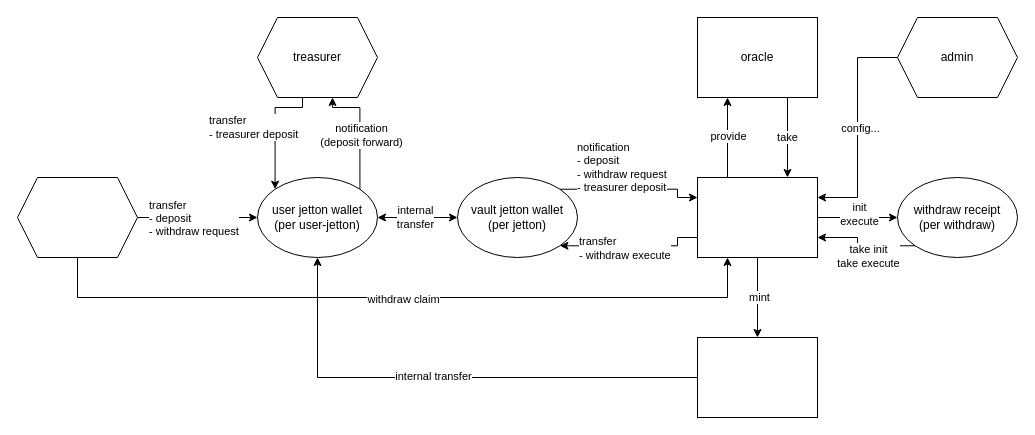
Some shapes in this 1035 by 435 pixel diagram are drawn without their labels. Each missing label, with the centre of its shape:
"user" goes at (77,217).
"vault" goes at (757,217).
"vault token" goes at (757,377).
